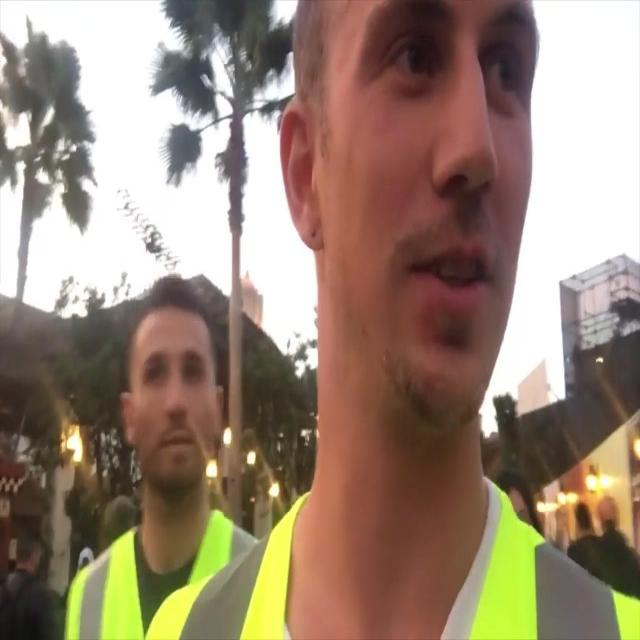Reflective-Jacket: (242, 474, 640, 640), (62, 509, 252, 640)
